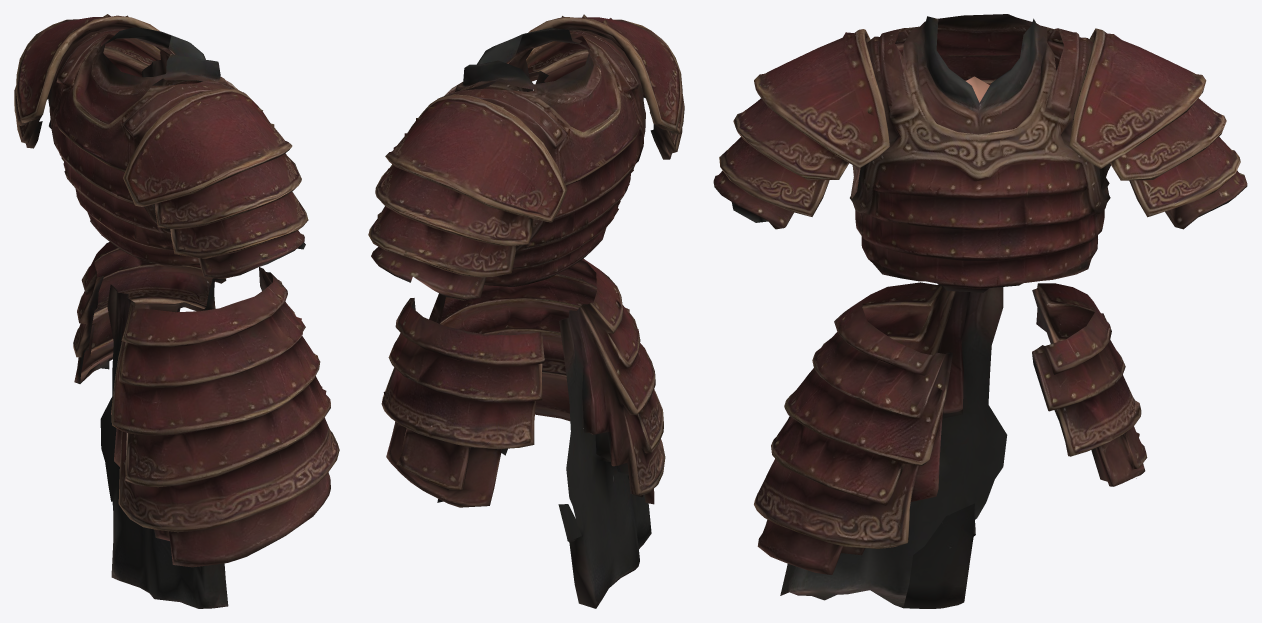
The model's file is top.glb.
3 views of the same model, side by side, from view 1: azimuth 30°, elevation 25°; view 2: azimuth 150°, elevation 25°; view 3: azimuth 270°, elevation 25° (orthographic). The views are drawn at different scales.
Parts seen in each view (by area): view 1: top; view 2: top; view 3: top.
Boxes of the visible parts, <box> form: top: <box>14,14,339,608</box>; top: <box>368,14,684,608</box>; top: <box>713,14,1247,608</box>.
Bounding box in the file's own units: 0.2824 × 0.6741 × 0.5391.
8 materials, 8 textured.
